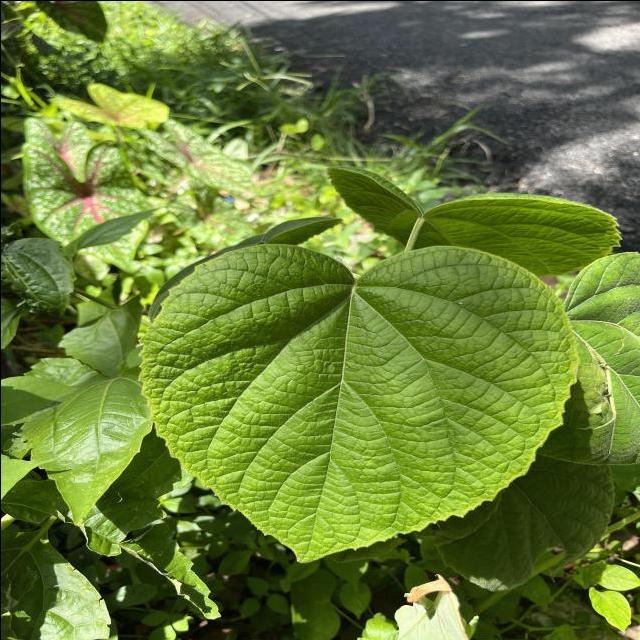Clerodendrum infortunatum: (133, 240, 580, 566)
